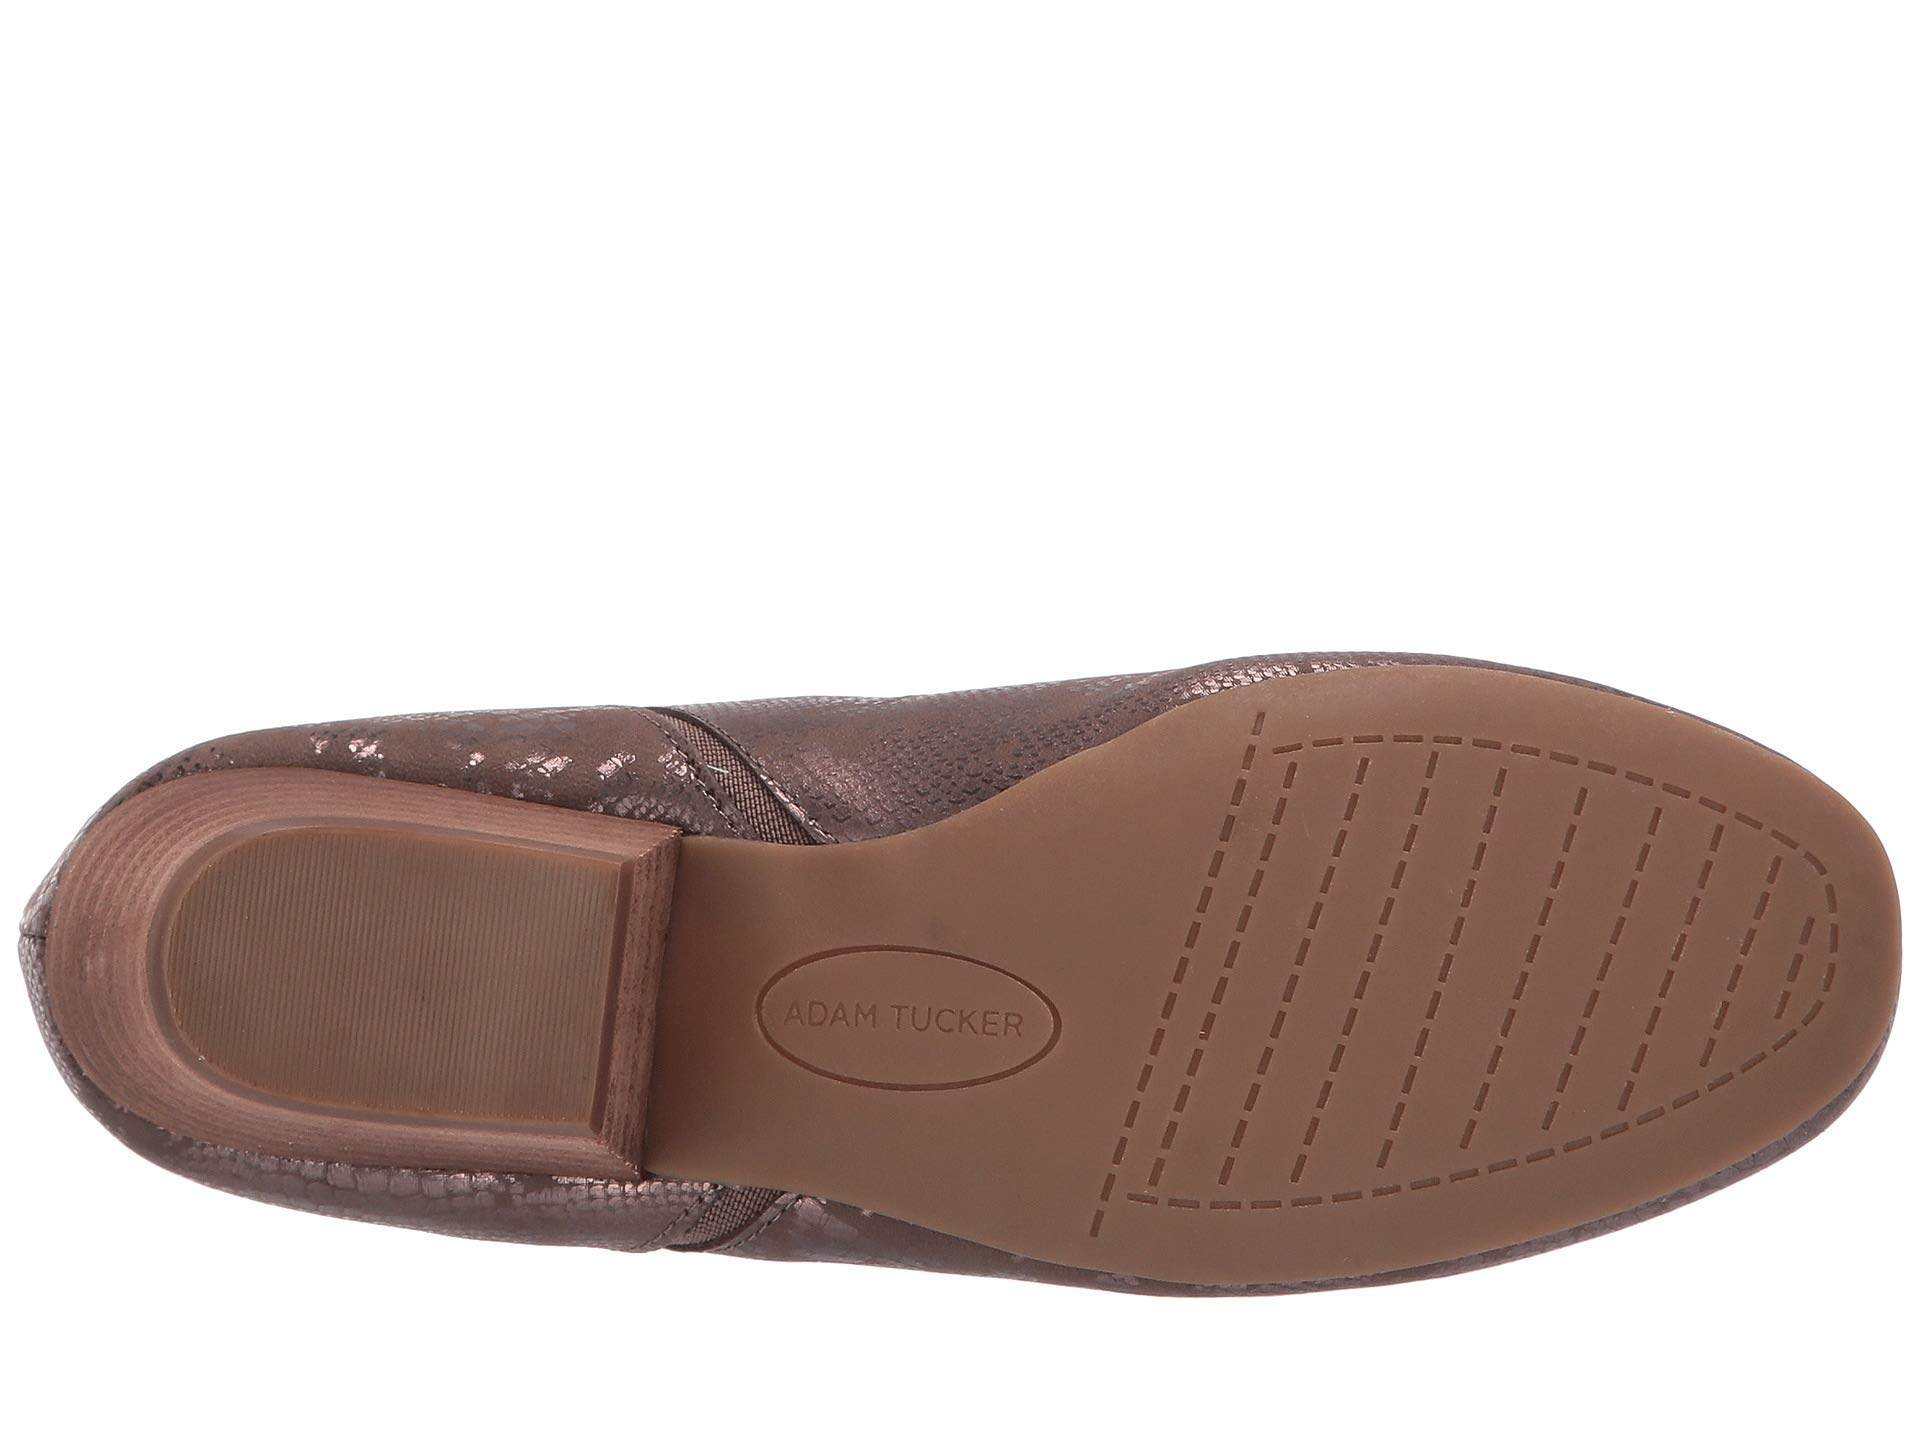circle: (733, 880, 1078, 1147)
line: (330, 914, 487, 1060)
quad: (1324, 765, 1730, 1133)
text: (733, 880, 1078, 1147)
